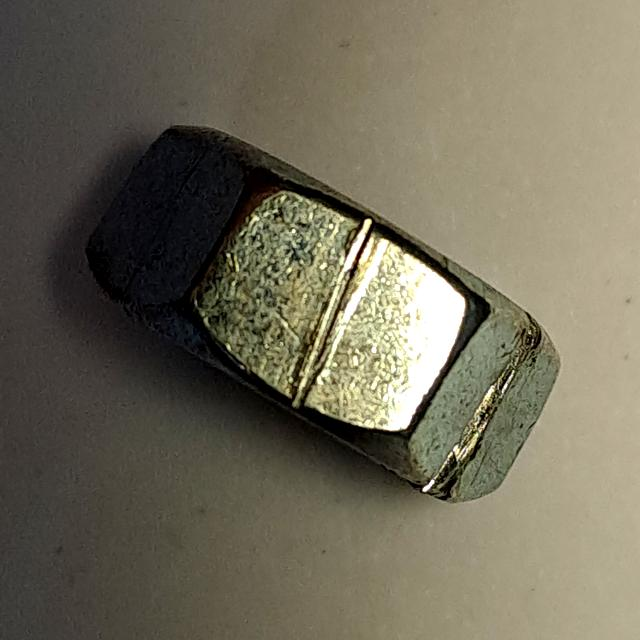Side_Scratches: (72, 107, 578, 516)
